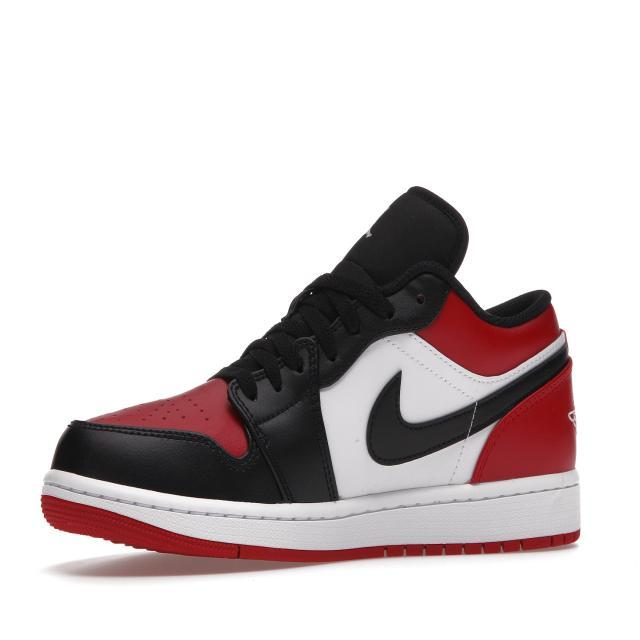J1_InsoleChar: (38, 183, 583, 565)
J1_StitchPattern: (221, 183, 470, 400), (39, 468, 582, 560), (363, 326, 570, 467), (226, 266, 398, 398), (224, 330, 340, 503), (224, 375, 296, 504), (292, 332, 341, 502), (66, 416, 232, 460), (385, 330, 483, 402), (229, 328, 321, 399), (379, 528, 581, 559)
